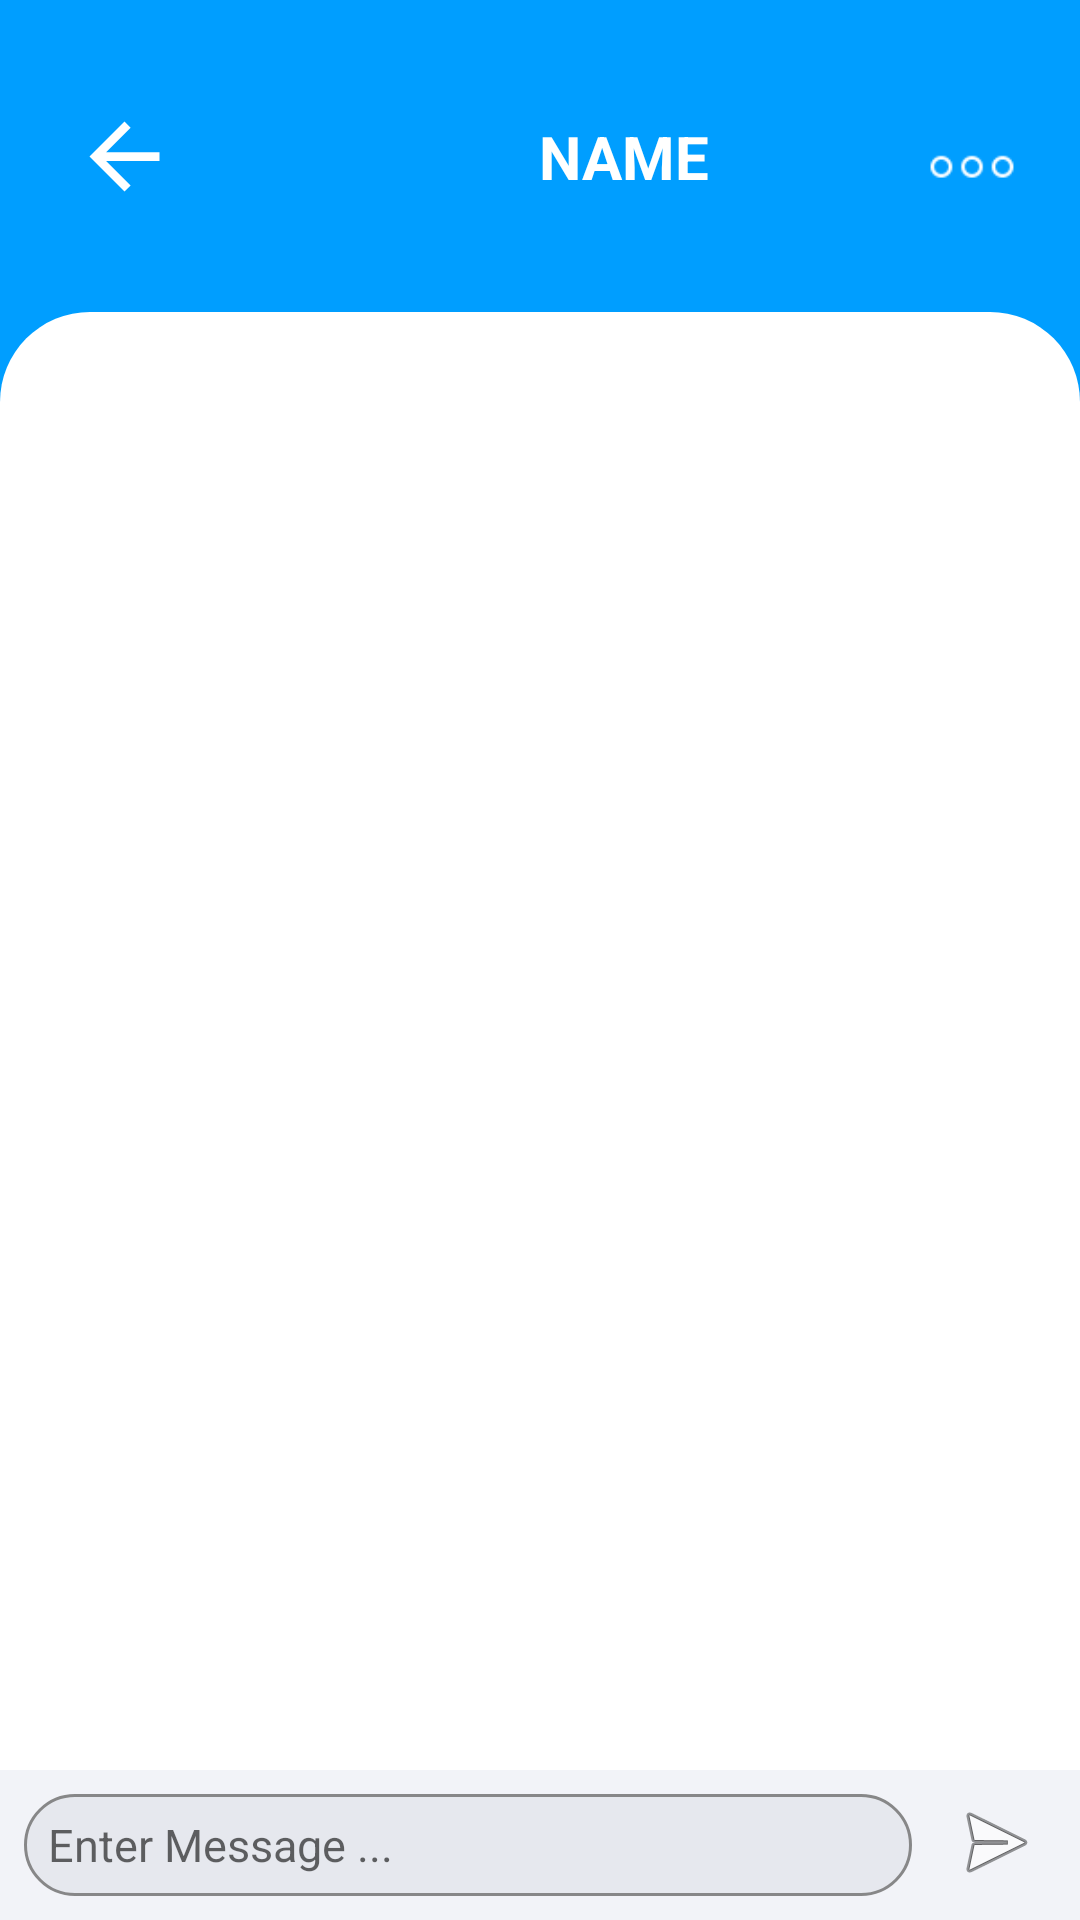

Icon bounding boxes for this 1080px x 1920px phone screenshot, format (x1, y1, x2, y2):
send: (966, 1812, 1028, 1873)
three dots: (930, 155, 1014, 178)
